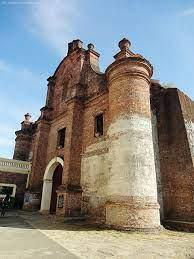Sta. Maria Church: (18, 40, 163, 233)
Unfinished Paint: (82, 120, 167, 197)
